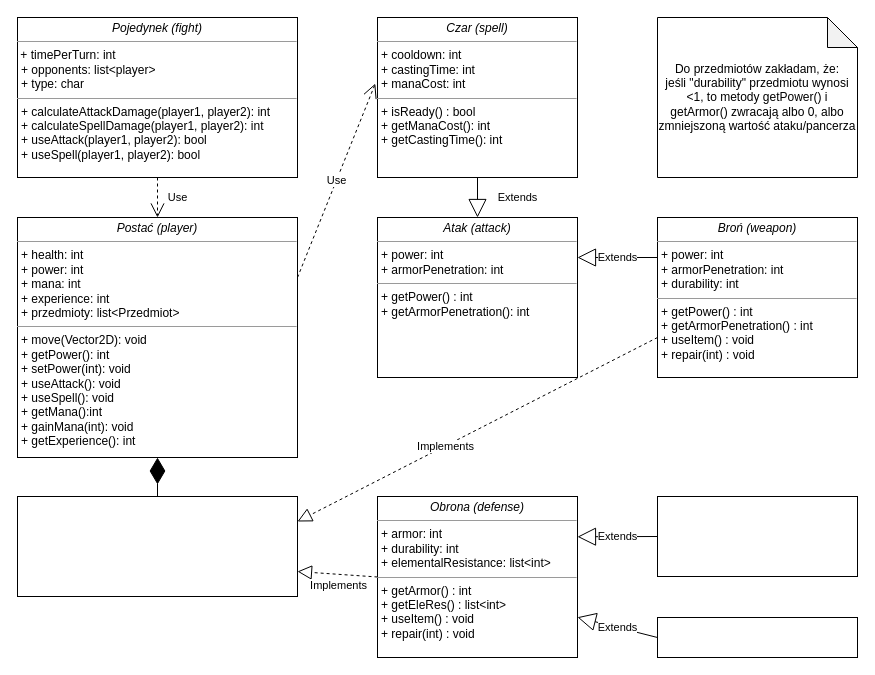
The diagram is 875 pixels wide and 675 high, and some of its shapes have lost their labels. The shapes that lost their labels are listed below. From the top down, each one's box as (x1, y1, x2, y2) in pixels, then its label:
(16, 496, 298, 596): <<Interface>> Przedmiot (item) + useItem() : void + repair(int) : void
(656, 496, 858, 576): Opancerzenie (armor) + health: int + getBonusHealth() : int
(656, 616, 858, 658): Tarcza (shield)
